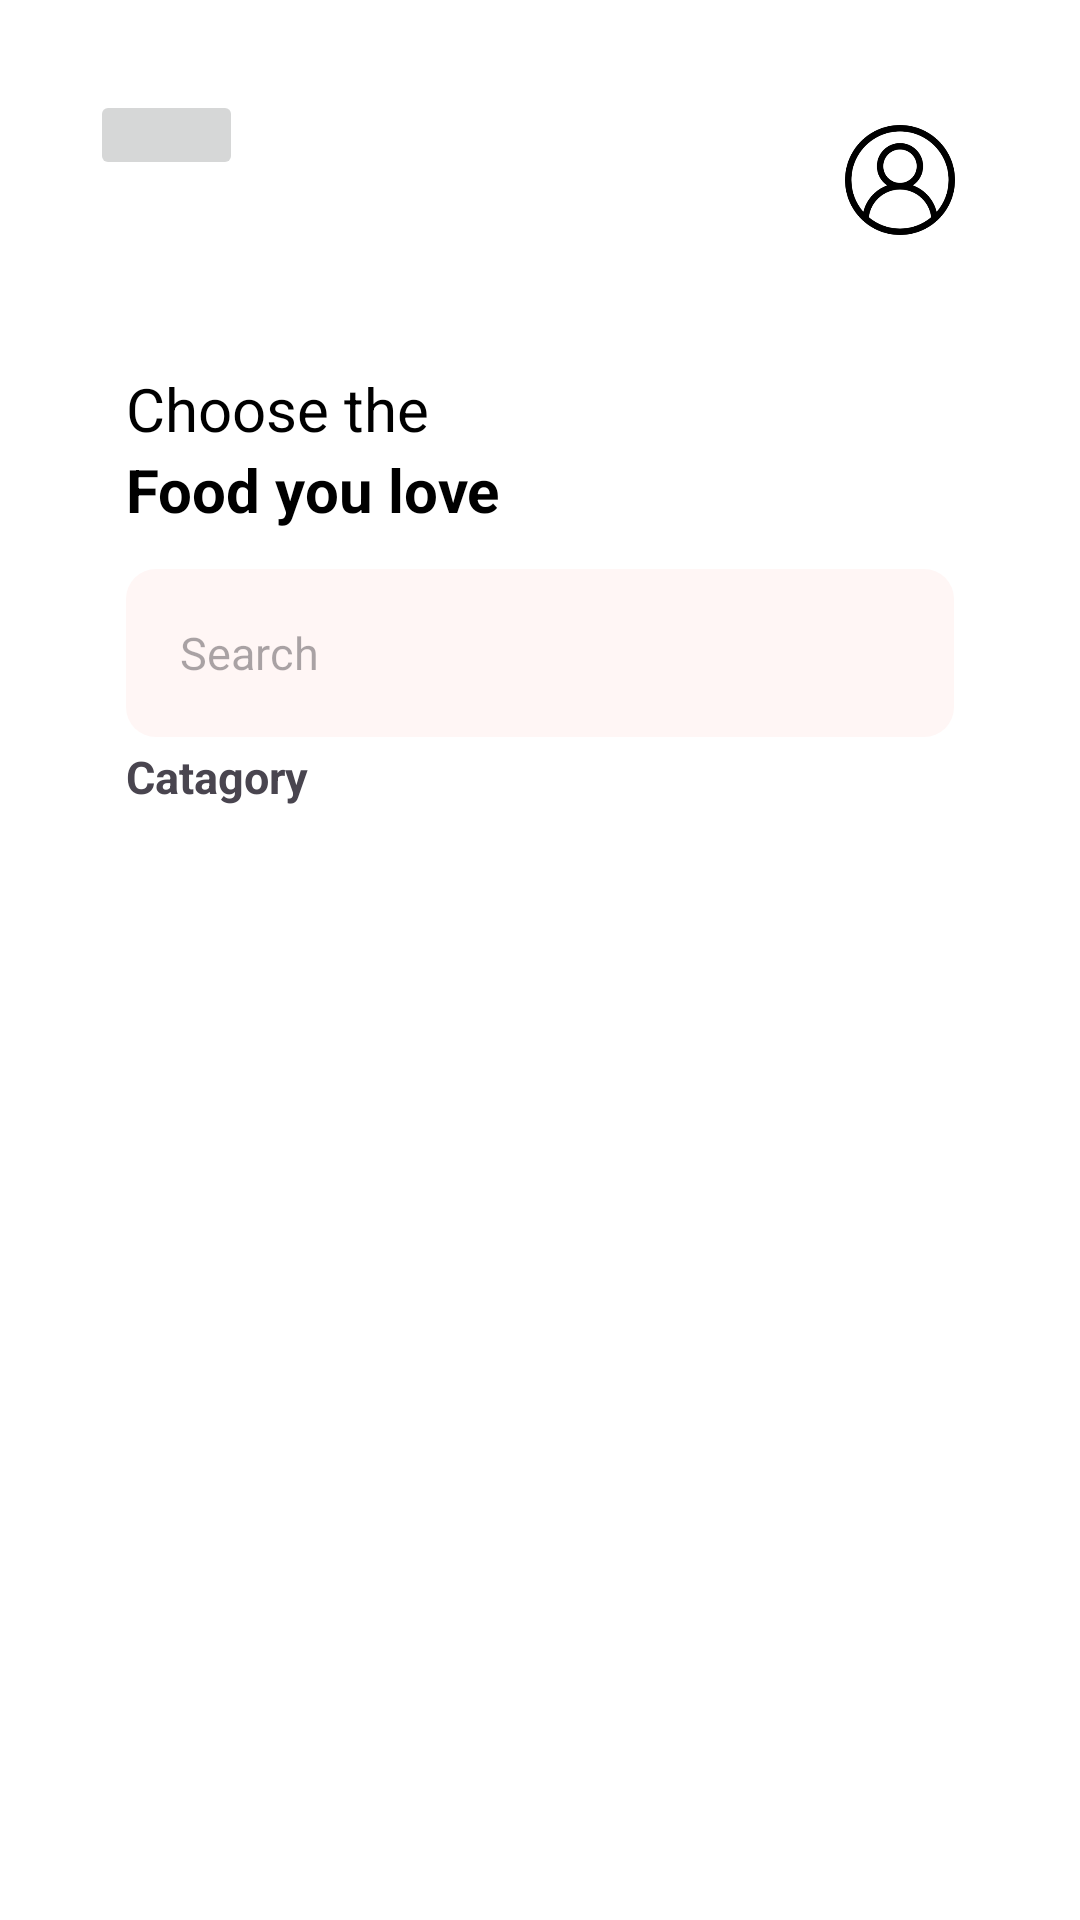

Named icons in this screenshot (1080px×1920px) and their bounding boxes, box=[x1, y1, x2, y2]:
user: box=[845, 125, 955, 235]
